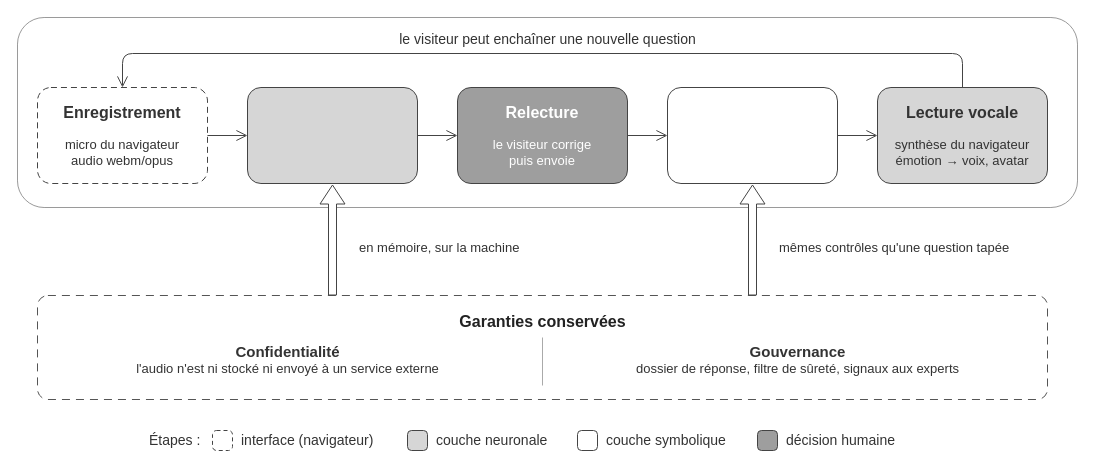
Some shapes in this 1095 by 469 pixel diagram are drawn without their labels. The centre of each missing label's shape, as x and y in pixels:
"Réponse /api/chat inchangé dossier + LLM contrôlé" belongs at (752,135).
"Transcription Whisper local (faster-whisper)" belongs at (332,135).
